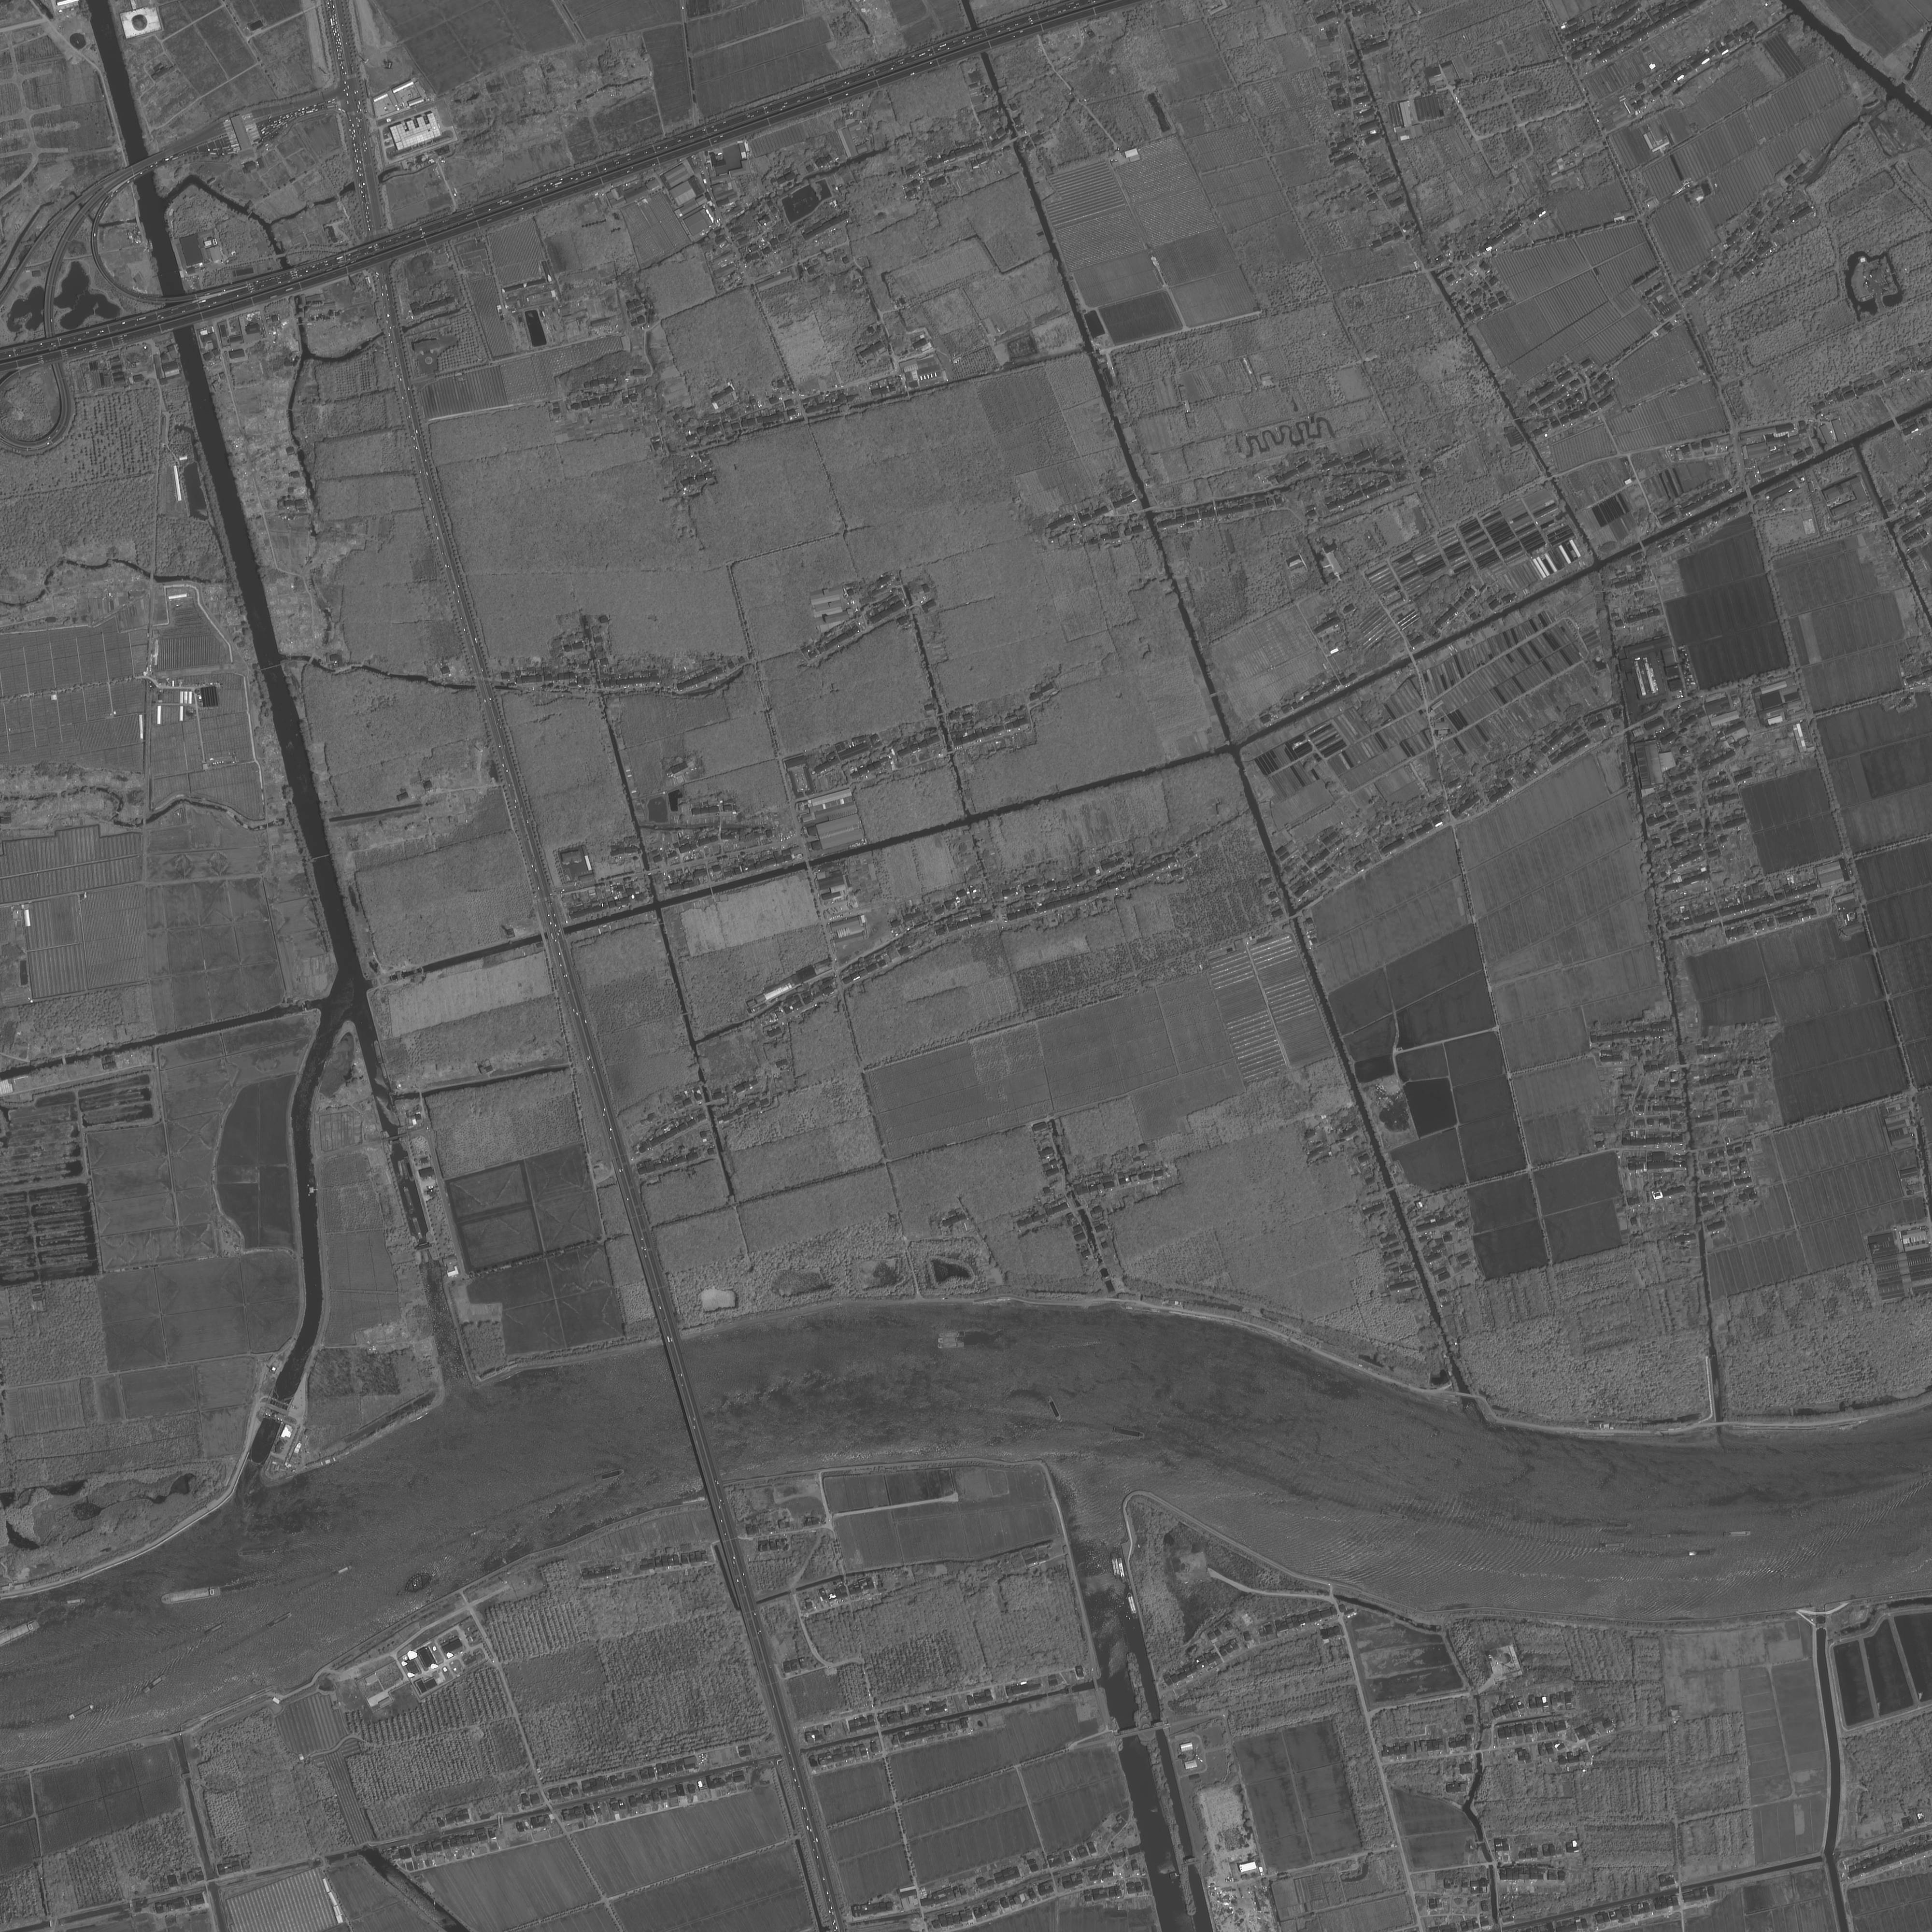bridge: (663, 1338, 727, 1495), (1115, 1723, 1166, 1741), (163, 301, 193, 320), (168, 313, 196, 333), (129, 156, 154, 177), (540, 927, 566, 941), (134, 165, 157, 179), (780, 1748, 800, 1760), (971, 28, 985, 44), (165, 295, 188, 304), (260, 663, 281, 672), (311, 853, 331, 862), (977, 41, 989, 53), (1456, 1392, 1474, 1399), (474, 685, 495, 690), (172, 1730, 184, 1739), (1010, 134, 1021, 143), (1208, 690, 1219, 699), (1408, 653, 1417, 663), (547, 1803, 556, 1813), (1746, 488, 1753, 499), (207, 1877, 218, 1884), (1546, 474, 1557, 481), (1882, 517, 1893, 524), (1385, 1185, 1396, 1192), (805, 860, 812, 869), (1290, 913, 1299, 920), (1891, 418, 1898, 426), (60, 1056, 67, 1065), (876, 1729, 883, 1737), (1624, 725, 1633, 732), (1076, 1205, 1085, 1212), (1714, 1421, 1725, 1426), (1093, 1679, 1099, 1690), (1638, 541, 1645, 548), (1143, 508, 1152, 513), (1681, 1063, 1690, 1069), (1690, 1148, 1698, 1154), (142, 819, 147, 826), (1476, 1750, 1483, 1755), (1677, 1886, 1683, 1893), (1488, 1861, 1493, 1867), (150, 573, 154, 580)
ship: (161, 1585, 221, 1606), (2, 1617, 41, 1647), (65, 1702, 97, 1723), (265, 1610, 295, 1631), (593, 1467, 626, 1484), (142, 1674, 168, 1695), (1046, 1394, 1065, 1422), (1111, 1426, 1146, 1440), (203, 1621, 230, 1637), (331, 1562, 356, 1578), (1125, 1592, 1139, 1619), (1380, 1509, 1410, 1522), (403, 1155, 416, 1184), (1109, 1552, 1122, 1580), (372, 1039, 384, 1065), (412, 1215, 425, 1240), (403, 1185, 416, 1210), (1116, 1557, 1127, 1585), (1686, 1548, 1718, 1557), (938, 1329, 970, 1338), (469, 1525, 490, 1537), (58, 1598, 87, 1606), (938, 1341, 966, 1350), (379, 1062, 389, 1085), (387, 1092, 398, 1113), (400, 1159, 410, 1180), (1723, 1530, 1752, 1537), (1599, 1543, 1626, 1550), (1605, 1522, 1631, 1529), (1651, 1532, 1674, 1539), (396, 1159, 405, 1177), (938, 1338, 959, 1343)
